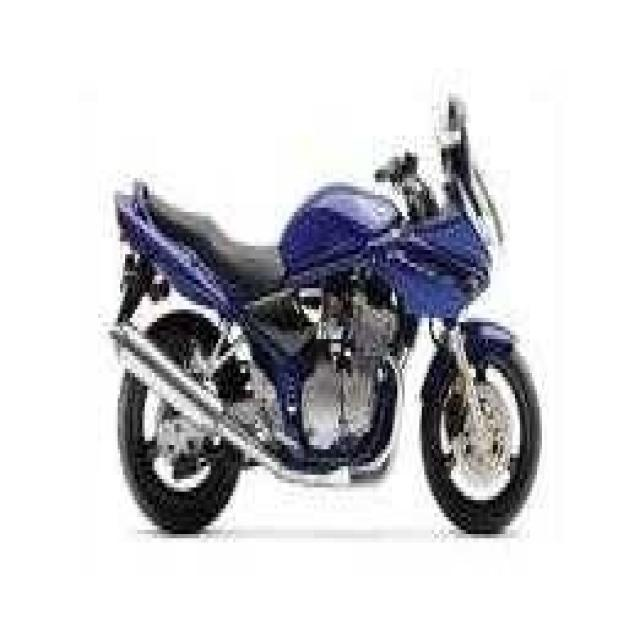Motorcycle: (100, 89, 552, 541)
